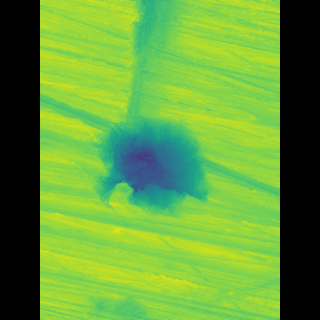Loch: (107, 115, 198, 215)
